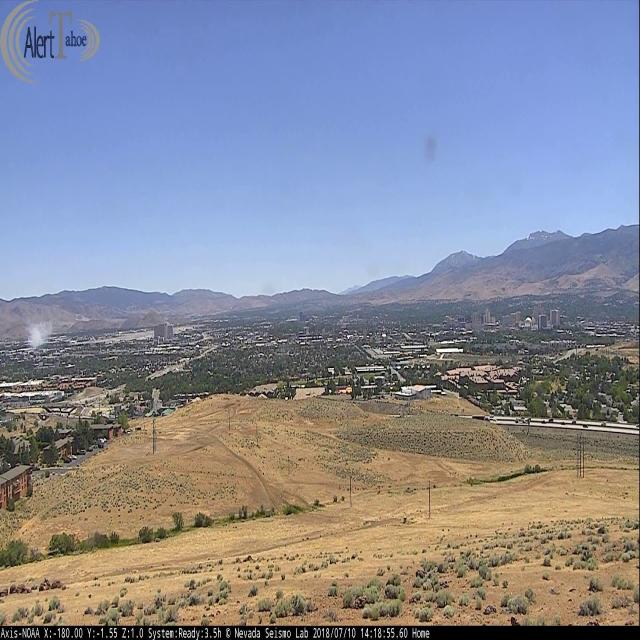smoke: (23, 314, 52, 350)
